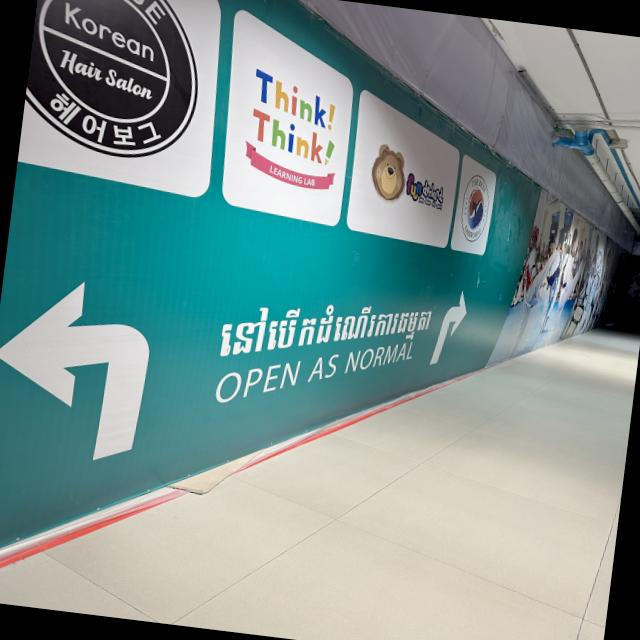Yolov11kh: (208, 301, 437, 368)
